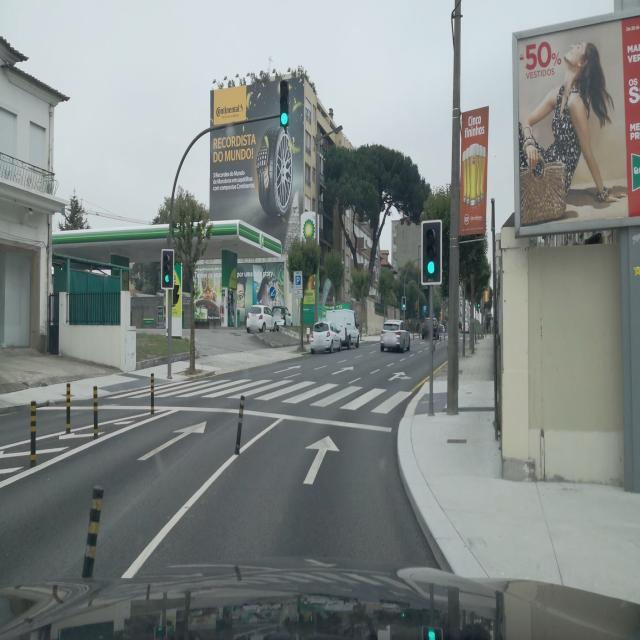car: (329, 306, 361, 348), (309, 318, 342, 354), (379, 317, 412, 352), (246, 302, 278, 334), (271, 303, 292, 328), (421, 314, 440, 339)
